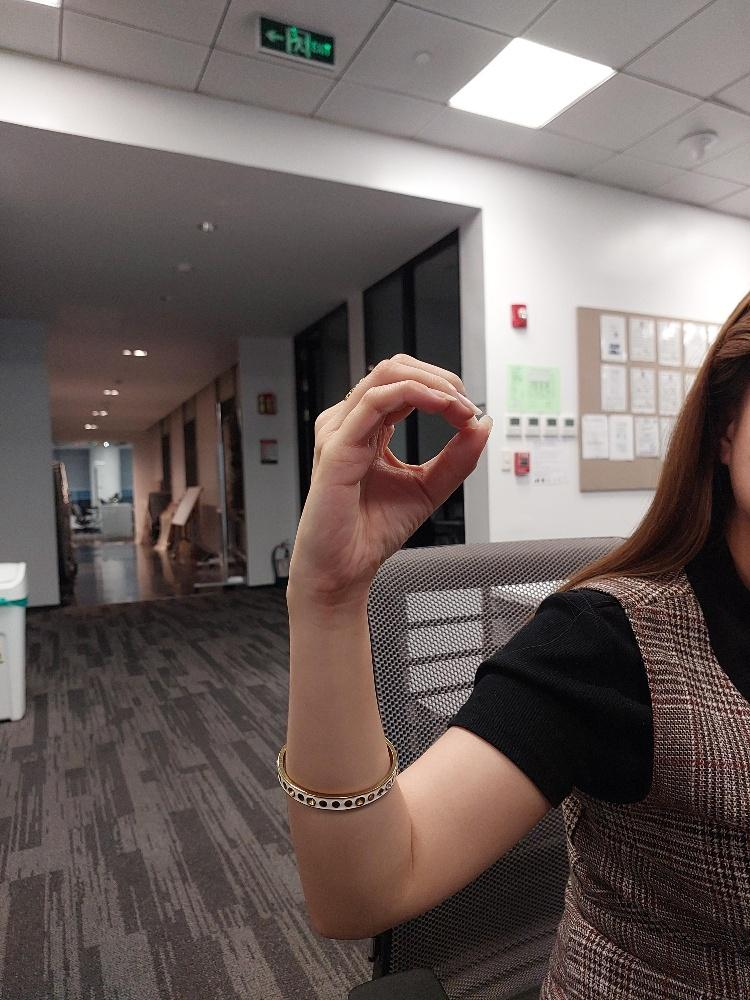o: (293, 345, 498, 593)
